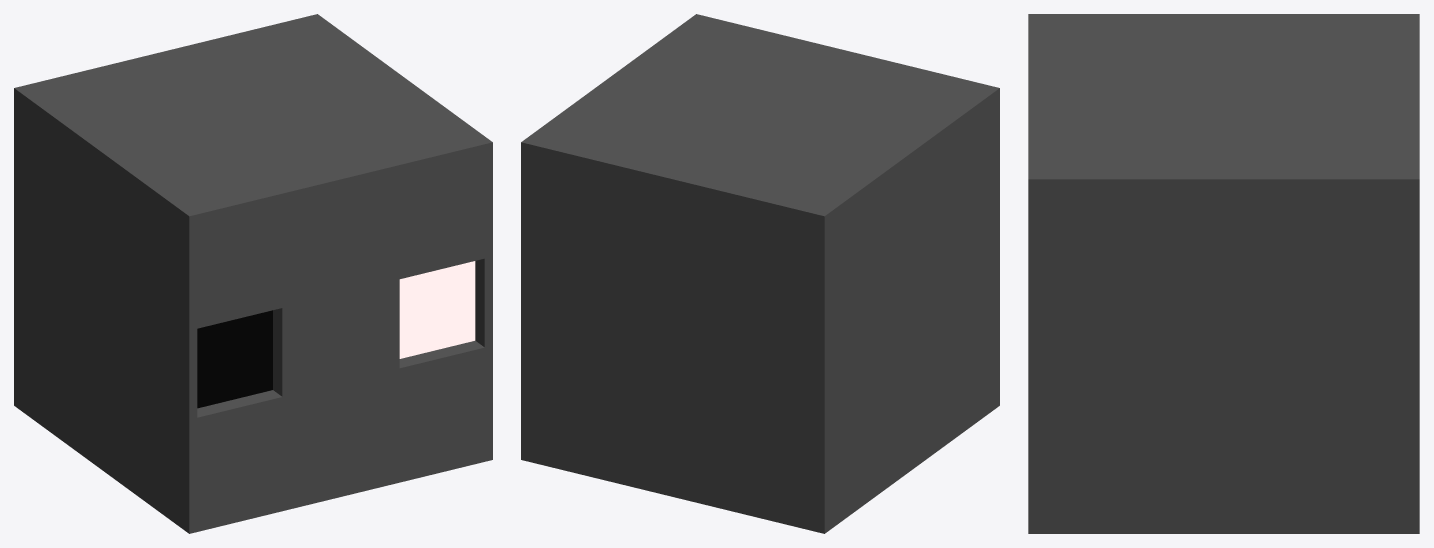
The model's file is petitMilieu.fbx.
3 views of the same model, side by side, from view 1: azimuth 30°, elevation 25°; view 2: azimuth 150°, elevation 25°; view 3: azimuth 270°, elevation 25° (orthographic). The views are drawn at different scales.
Parts seen in each view (by area): view 1: Cube.092; view 2: Cube.092; view 3: Cube.092.
Boxes of the visible parts, box(x1,y1,x2,y2) form: Cube.092: box(14, 14, 492, 533); Cube.092: box(521, 14, 999, 533); Cube.092: box(1028, 14, 1419, 533).
Bounding box in the file's own units: 2000 × 2000 × 2000.
